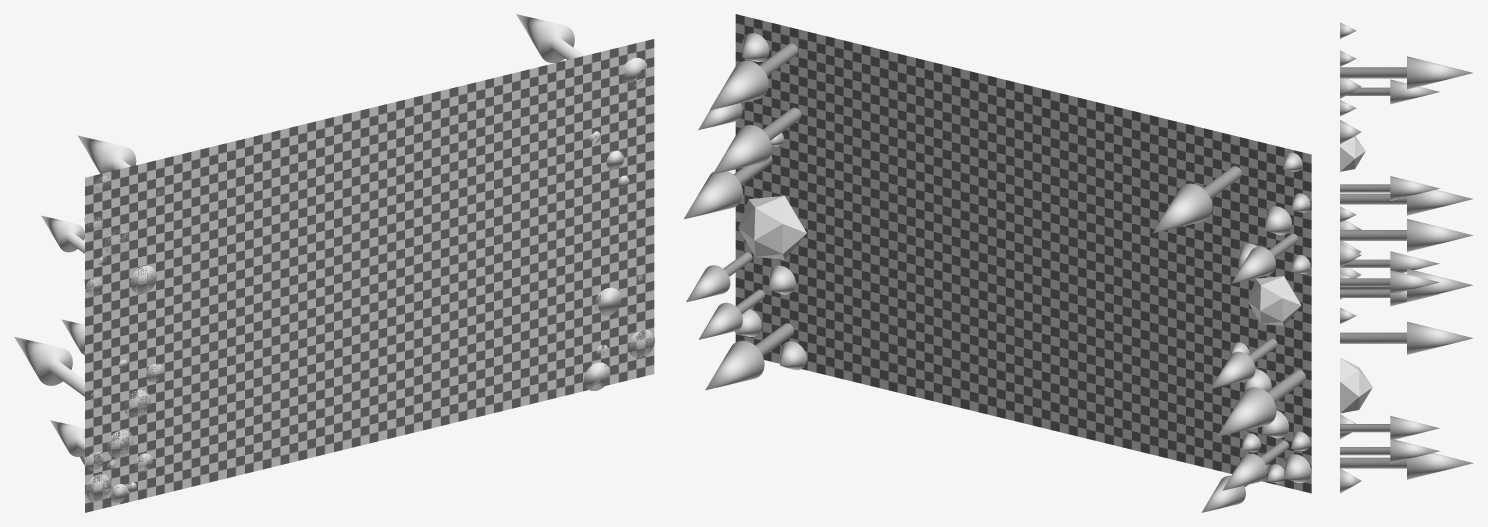
The model's file is forest5.dae.
The picture shows the model from 3 angles, left to right: view 1: azimuth 30°, elevation 25°; view 2: azimuth 150°, elevation 25°; view 3: azimuth 270°, elevation 25°; orthographic projection. The views are drawn at different scales.
Visible parts, largest first — view 1: Plane.006, Cone.292, Cone.316, Cone.301, Cone.298, Cone.305; view 2: Plane.006, Icosphere.007, Cone.292, Cone.301, Cone.286, Cone.316, Cone.322, Cone.306, Icosphere.006, Cone.290, Cone.287, Cone.327 (+3 smaller); view 3: Cone.306, Cone.301, Cone.316, Cone.322, Cone.292, Icosphere.007, Cone.286, Cone.290, Cone.287, Cone.329, Cone.327, Cone.305 (+7 smaller).
Boxes of the visible parts, <box> form: Plane.006: <box>85,39,654,512</box>; Cone.292: <box>14,337,101,402</box>; Cone.316: <box>516,14,584,62</box>; Cone.301: <box>77,135,164,201</box>; Cone.298: <box>41,215,106,265</box>; Cone.305: <box>50,420,115,469</box>; Plane.006: <box>735,14,1311,493</box>; Icosphere.007: <box>738,196,806,259</box>; Cone.292: <box>1217,369,1305,436</box>; Cone.301: <box>1153,166,1241,233</box>; Cone.286: <box>712,107,801,174</box>; Cone.316: <box>710,43,798,110</box>; Cone.322: <box>705,323,793,390</box>; Cone.306: <box>684,155,772,219</box>; Icosphere.006: <box>1247,276,1301,326</box>; Cone.290: <box>686,252,752,302</box>; Cone.287: <box>1211,338,1277,388</box>; Cone.327: <box>698,289,764,339</box>; Cone.306: <box>1340,321,1473,354</box>; Cone.301: <box>1340,56,1472,89</box>; Cone.316: <box>1340,219,1473,251</box>; Cone.322: <box>1340,453,1473,479</box>; Cone.292: <box>1340,189,1472,215</box>; Icosphere.007: <box>1340,357,1372,413</box>; Cone.286: <box>1340,268,1472,301</box>; Cone.290: <box>1340,416,1439,440</box>; Cone.287: <box>1340,176,1439,200</box>; Cone.329: <box>1340,270,1439,294</box>; Cone.327: <box>1340,439,1439,463</box>; Cone.305: <box>1340,251,1439,272</box>.
Size of the model in its own units: 64.84 by 16 by 36.3.
